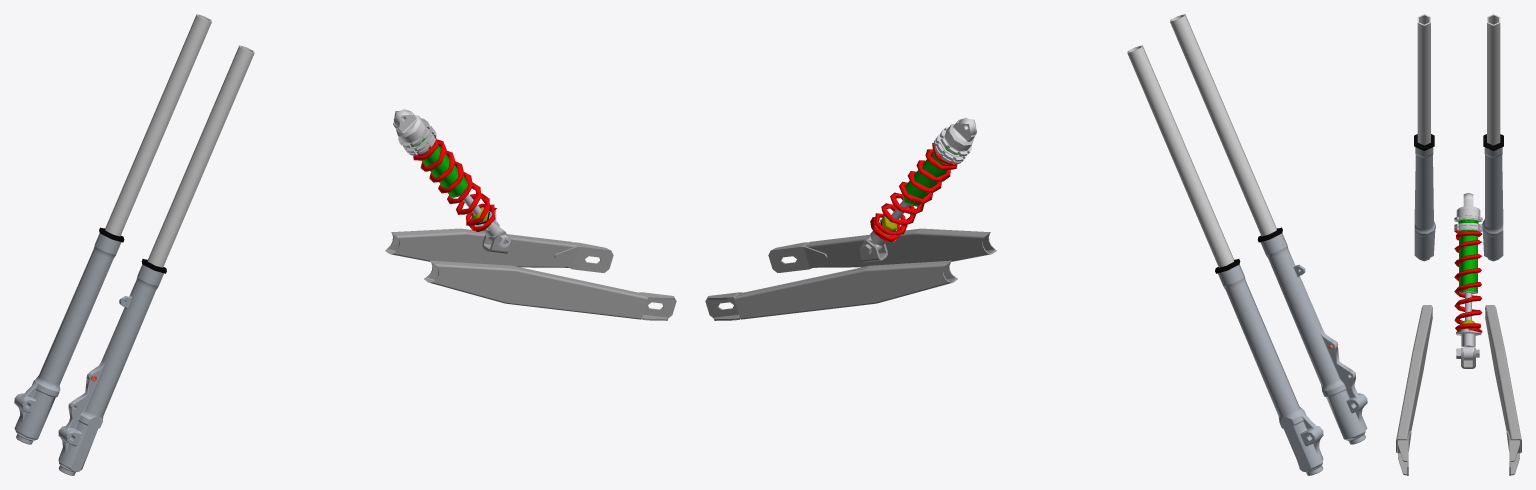
File: Suspension Origin.fbx
The picture shows the model from 3 angles, left to right: view 1: azimuth 30°, elevation 25°; view 2: azimuth 150°, elevation 25°; view 3: azimuth 270°, elevation 25°; orthographic projection. The views are drawn at different scales.
Parts seen in each view (by area): view 1: Suspension BF Part 14, Suspension Part 3, Suspension Part 4, Suspension BF Part 13, Suspension BF Part 1, Suspension BF Part 2, Suspension Part 20, Suspension BF Part 12, Suspension Part 21, Suspension Part 16, Suspension BF Part 15; view 2: Suspension BF Part 13, Suspension Part 3, Suspension Part 4, Suspension BF Part 14, Suspension BF Part 2, Suspension BF Part 1, Suspension Part 20, Suspension BF Part 15, Suspension Part 21, Suspension Part 16, Suspension BF Part 12; view 3: Suspension Part 3, Suspension Part 4, Suspension BF Part 13, Suspension BF Part 14, Suspension BF Part 2, Suspension BF Part 1, Suspension Part 20, Suspension Part 21, Suspesion Part 23, Suspension BF Part 12, Suspension BF Part 15, Suspension Part 16 (+3 smaller).
Boxes of the visible parts, <box> form: Suspension BF Part 14: <box>424,260,647,319</box>; Suspension Part 3: <box>58,264,163,475</box>; Suspension Part 4: <box>14,233,121,444</box>; Suspension BF Part 13: <box>385,228,576,267</box>; Suspension BF Part 1: <box>147,45,254,267</box>; Suspension BF Part 2: <box>105,14,211,236</box>; Suspension Part 20: <box>413,137,496,231</box>; Suspension BF Part 12: <box>554,242,613,272</box>; Suspension Part 21: <box>411,135,467,197</box>; Suspension Part 16: <box>393,109,425,142</box>; Suspension BF Part 15: <box>639,292,676,320</box>; Suspension BF Part 13: <box>734,260,957,319</box>; Suspension Part 3: <box>1260,233,1367,444</box>; Suspension Part 4: <box>1218,264,1323,475</box>; Suspension BF Part 14: <box>805,228,996,267</box>; Suspension BF Part 2: <box>1127,45,1234,267</box>; Suspension BF Part 1: <box>1170,14,1276,236</box>; Suspension Part 20: <box>870,143,957,241</box>; Suspension BF Part 15: <box>768,242,827,272</box>; Suspension Part 21: <box>903,147,958,205</box>; Suspension Part 16: <box>944,117,976,151</box>; Suspension BF Part 12: <box>705,292,742,320</box>; Suspension Part 3: <box>1414,147,1435,261</box>; Suspension Part 4: <box>1482,147,1503,261</box>; Suspension BF Part 13: <box>1485,305,1521,453</box>; Suspension BF Part 14: <box>1396,305,1432,453</box>; Suspension BF Part 2: <box>1487,14,1500,145</box>; Suspension BF Part 1: <box>1417,14,1430,145</box>; Suspension Part 20: <box>1454,230,1482,332</box>; Suspension Part 21: <box>1458,219,1478,292</box>; Suspesion Part 23: <box>1461,292,1475,360</box>; Suspension BF Part 12: <box>1506,431,1519,475</box>; Suspension BF Part 15: <box>1398,431,1411,475</box>; Suspension Part 16: <box>1456,193,1480,216</box>.
Size of the model in its own units: 6.11 by 3.72 by 1.35.
